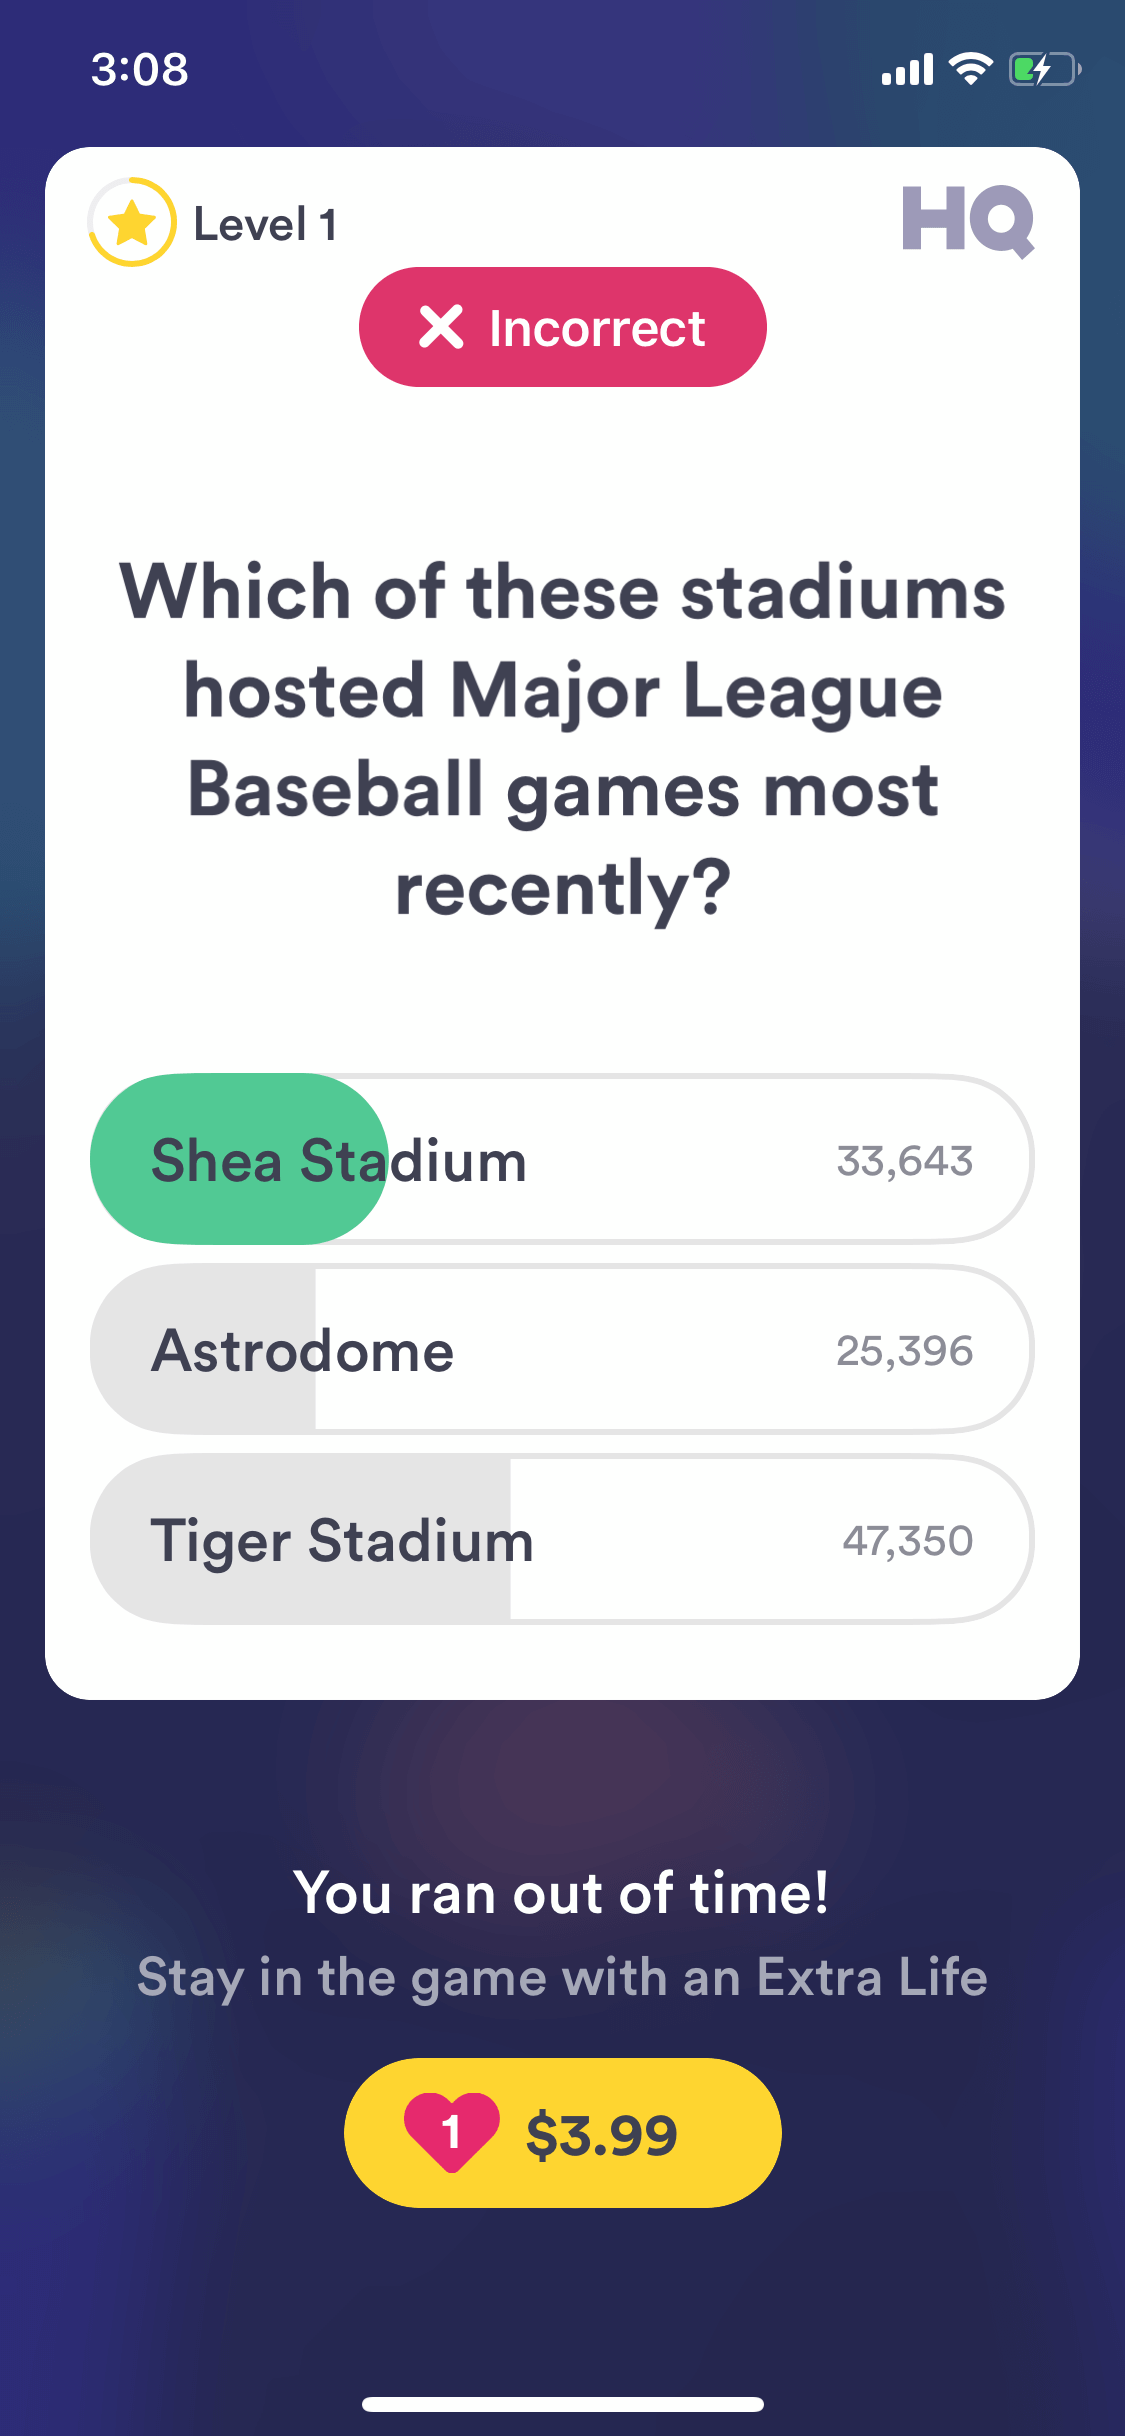Buttons: (311, 2031, 822, 2225), (348, 256, 786, 402)
